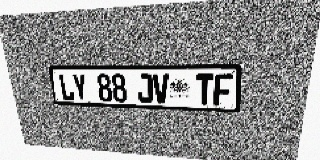8: (96, 74, 113, 102), (111, 74, 128, 102)
F: (213, 74, 233, 106)
J: (136, 74, 153, 103)
L: (58, 74, 75, 101)
T: (196, 74, 214, 105)
V: (153, 74, 169, 104)
Y: (72, 74, 88, 101)
